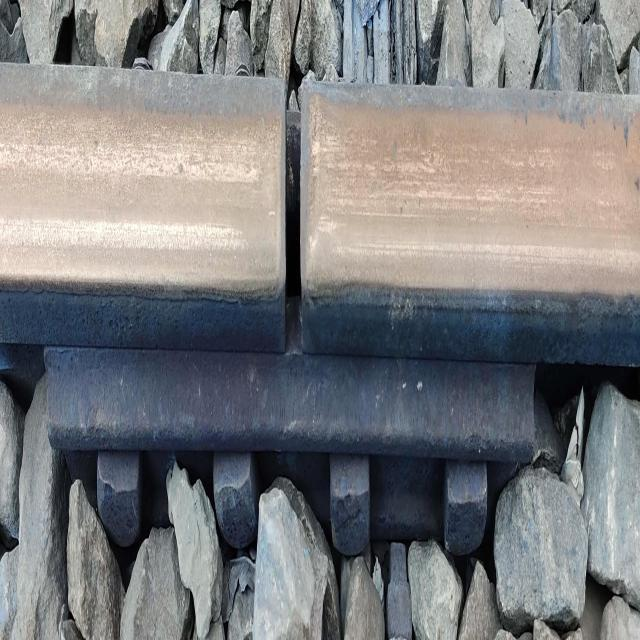Good Joint: (44, 359, 537, 567)
